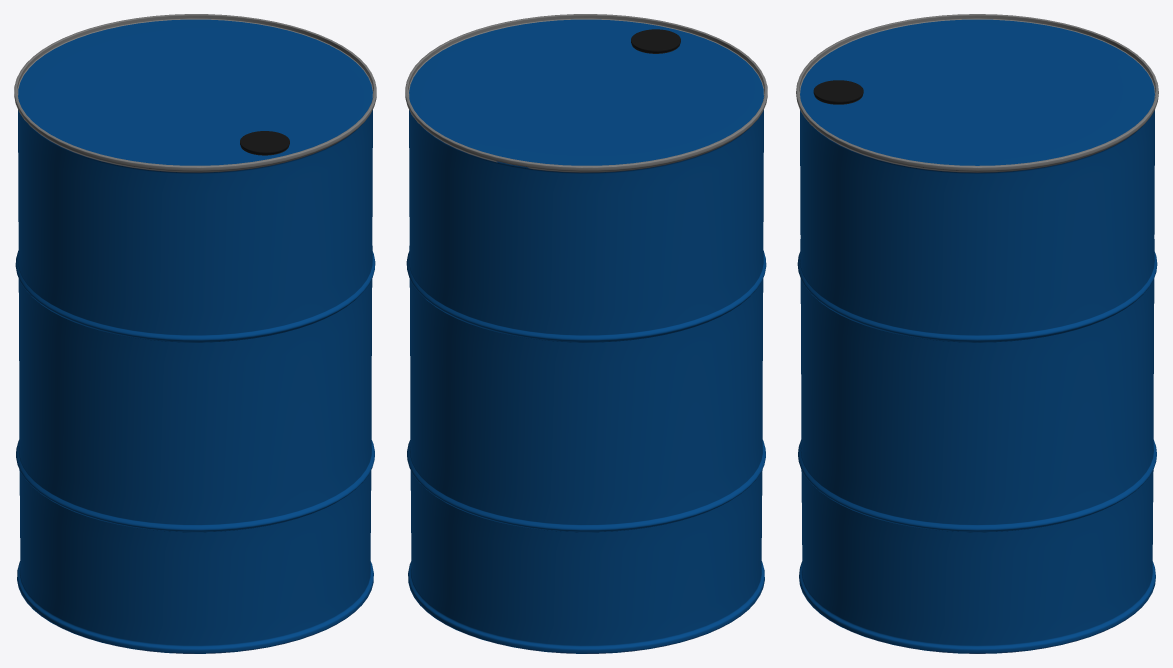
Rendered from Drum.glb.
3 renders of one model, left to right at view 1: azimuth 30°, elevation 25°; view 2: azimuth 150°, elevation 25°; view 3: azimuth 270°, elevation 25°, orthographic.
Visible parts, largest first — view 1: Object_2; view 2: Object_2; view 3: Object_2.
Part boxes in pixels (x1,y1,x2,y2): Object_2: (14,14,376,653); Object_2: (405,14,767,653); Object_2: (796,14,1158,653).
Size of the model in its own units: 1.75 by 2.61 by 1.75.
Materials: 1 (1 with a texture image).
